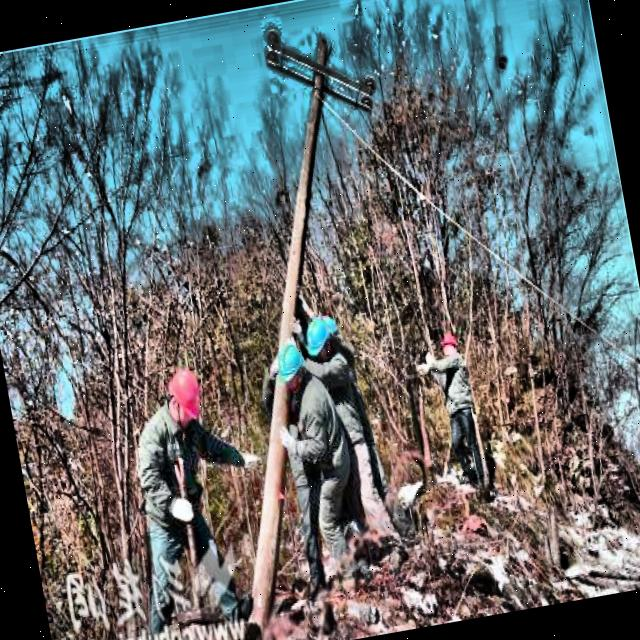helmet: (162, 361, 209, 428), (272, 338, 311, 398), (300, 314, 340, 368), (438, 328, 464, 368)
